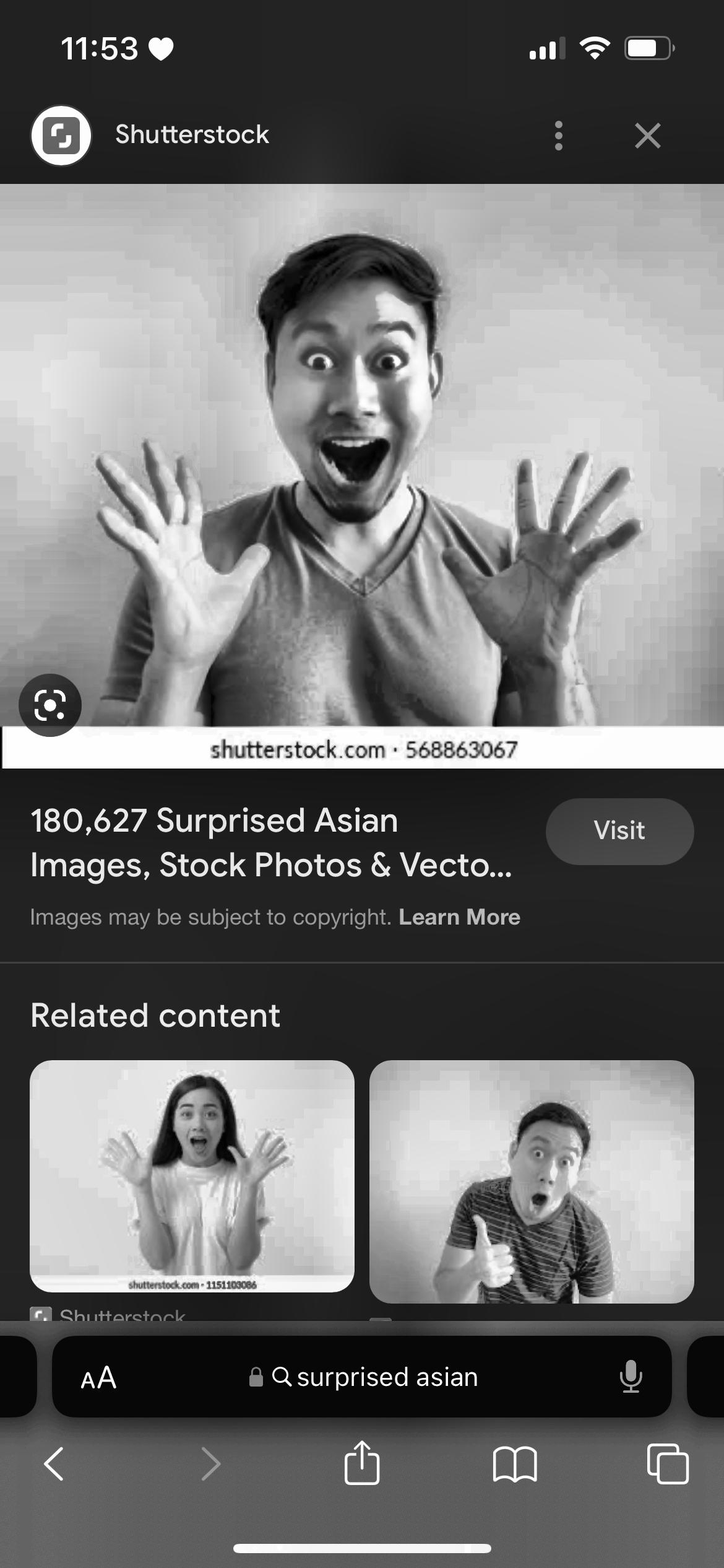surprised: (254, 273, 447, 524)
